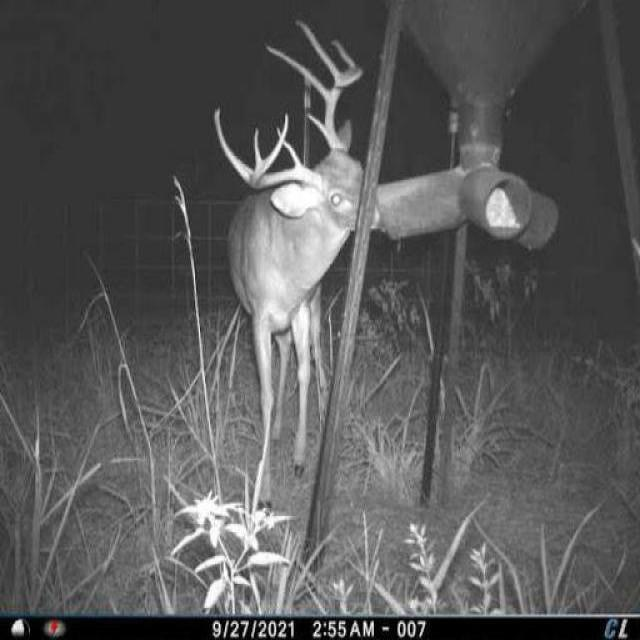deer: (202, 9, 388, 532)
